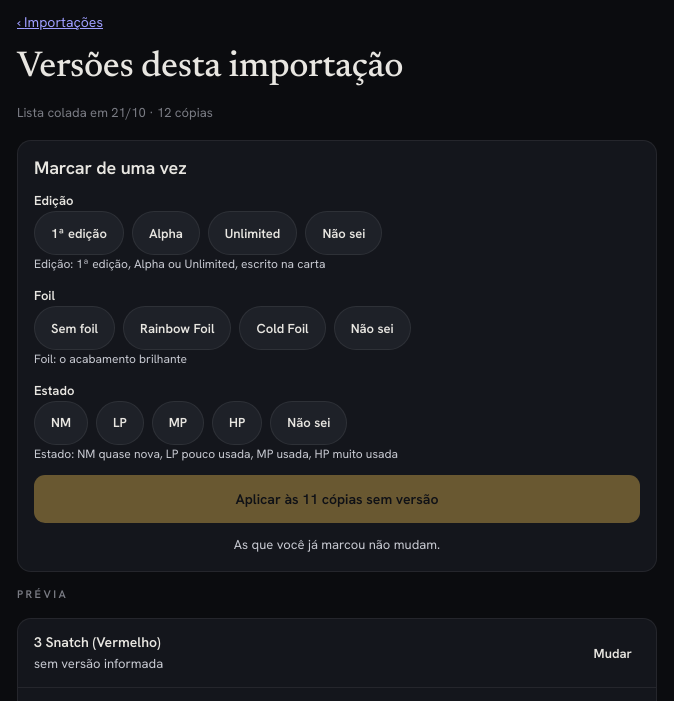
Scenario: VersionBulkSheet › lists the cards the marking skipped by name after applying
Click the button "Sem foil" at [75, 328], box [34,306,115,350]
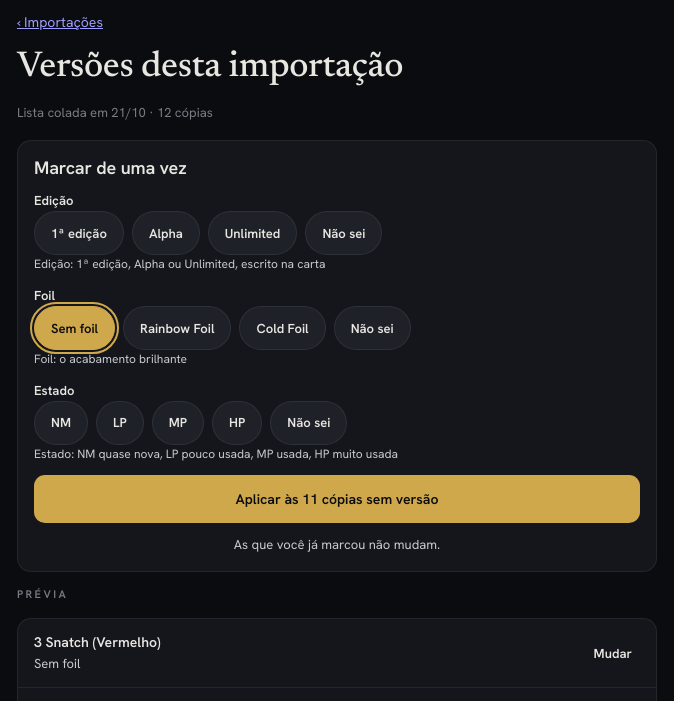
Click the button "Aplicar às 11 cópias sem versão" at [337, 499], box [34,475,640,523]
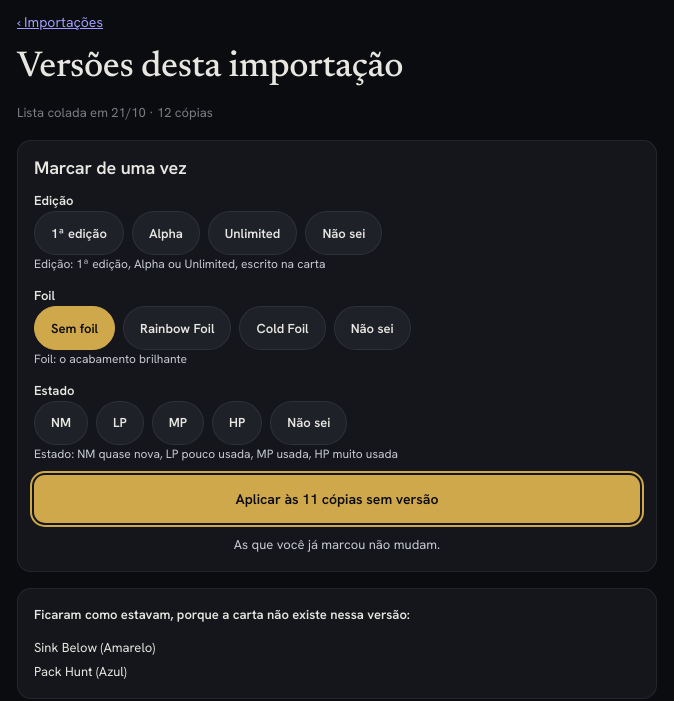
Expected: the list items read "Sink Below (Amarelo)", "Pack Hunt (Azul)", in this order, [34,639,155,656]; [34,663,127,680]
